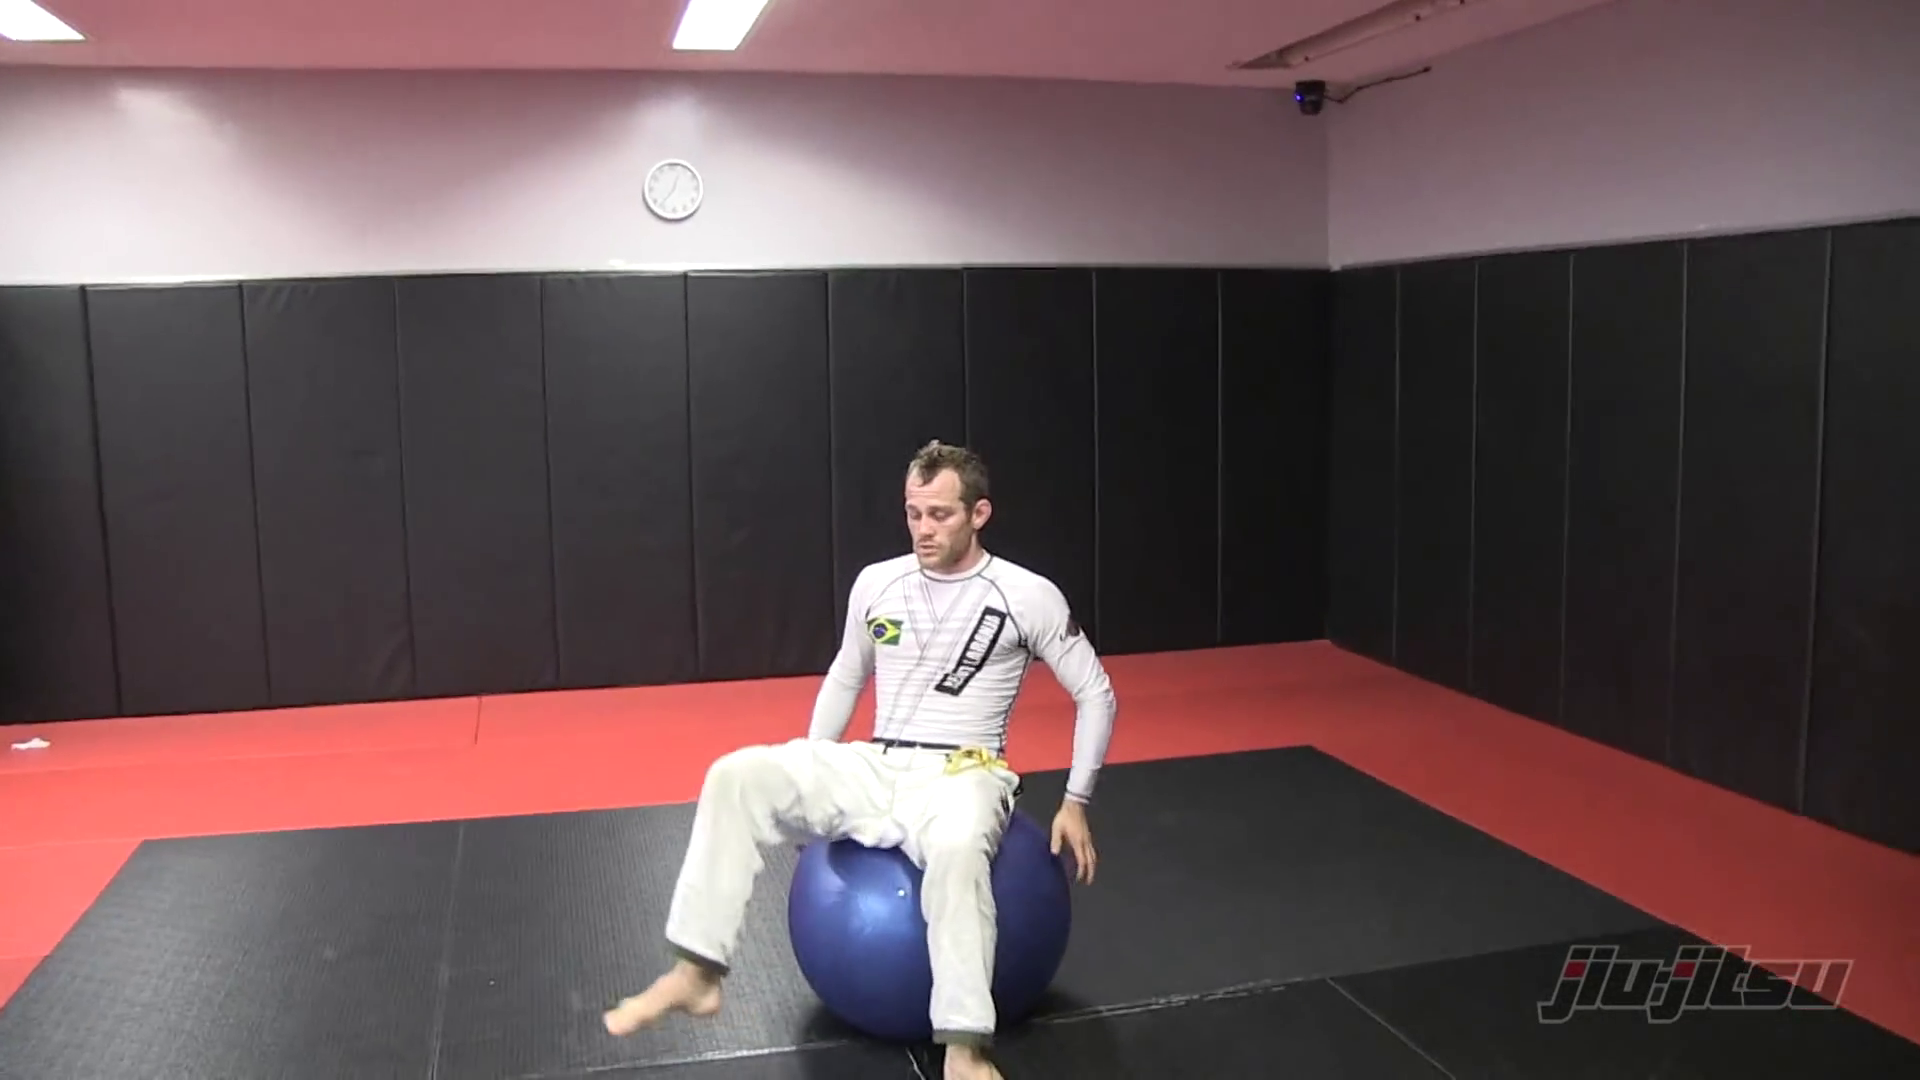yogaball: (773, 803, 1089, 1043)
